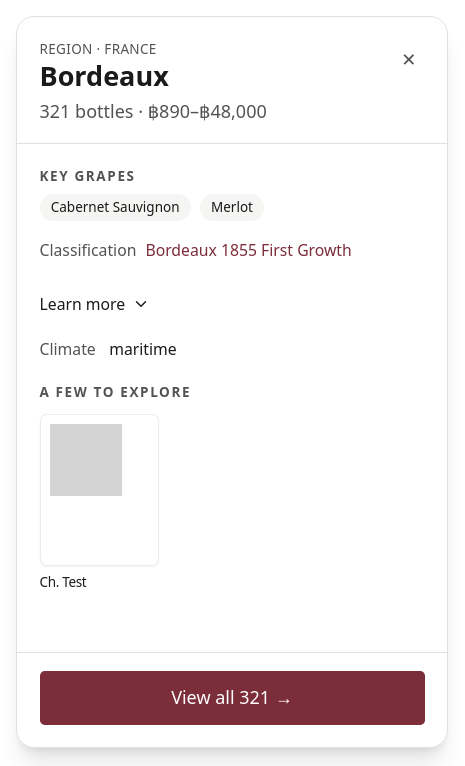
it: RegionDrawer › Learn more toggle expands terroir detail (string attrs only)
Step 1. Click the button "Learn more" → [95, 304], box [40,279,150,328]
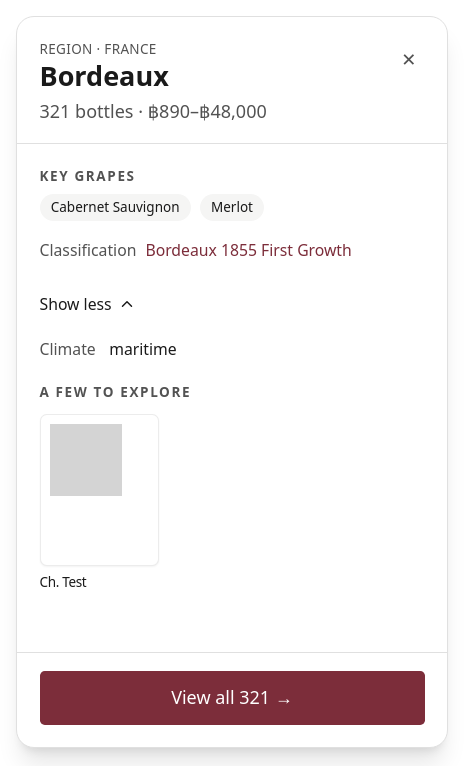
expect the text "maritime" is shown: met, box [109,338,177,360]
expect the button named "learn more" is expanded: met, box [40,279,136,328]
